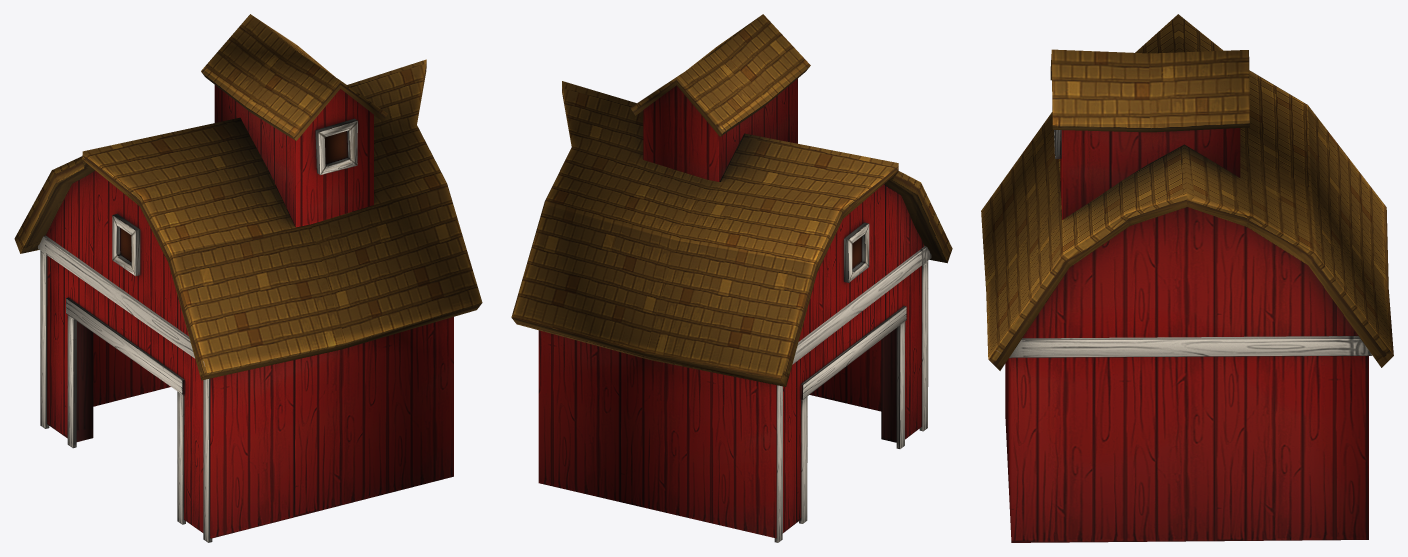
The model's file is barn-reverse.obj.
The picture shows the model from 3 angles, left to right: view 1: azimuth 30°, elevation 25°; view 2: azimuth 150°, elevation 25°; view 3: azimuth 270°, elevation 25°; orthographic projection. The views are drawn at different scales.
Parts seen in each view (by area): view 1: barn:farm_barn_farm_barn_mesh; view 2: barn:farm_barn_farm_barn_mesh; view 3: barn:farm_barn_farm_barn_mesh.
Part boxes in pixels (<box>): barn:farm_barn_farm_barn_mesh: <box>14,14,482,542</box>; barn:farm_barn_farm_barn_mesh: <box>511,14,952,542</box>; barn:farm_barn_farm_barn_mesh: <box>981,14,1393,542</box>.
Size of the model in its own units: 48.16 by 54.29 by 45.35.
1 material, 1 textured.
